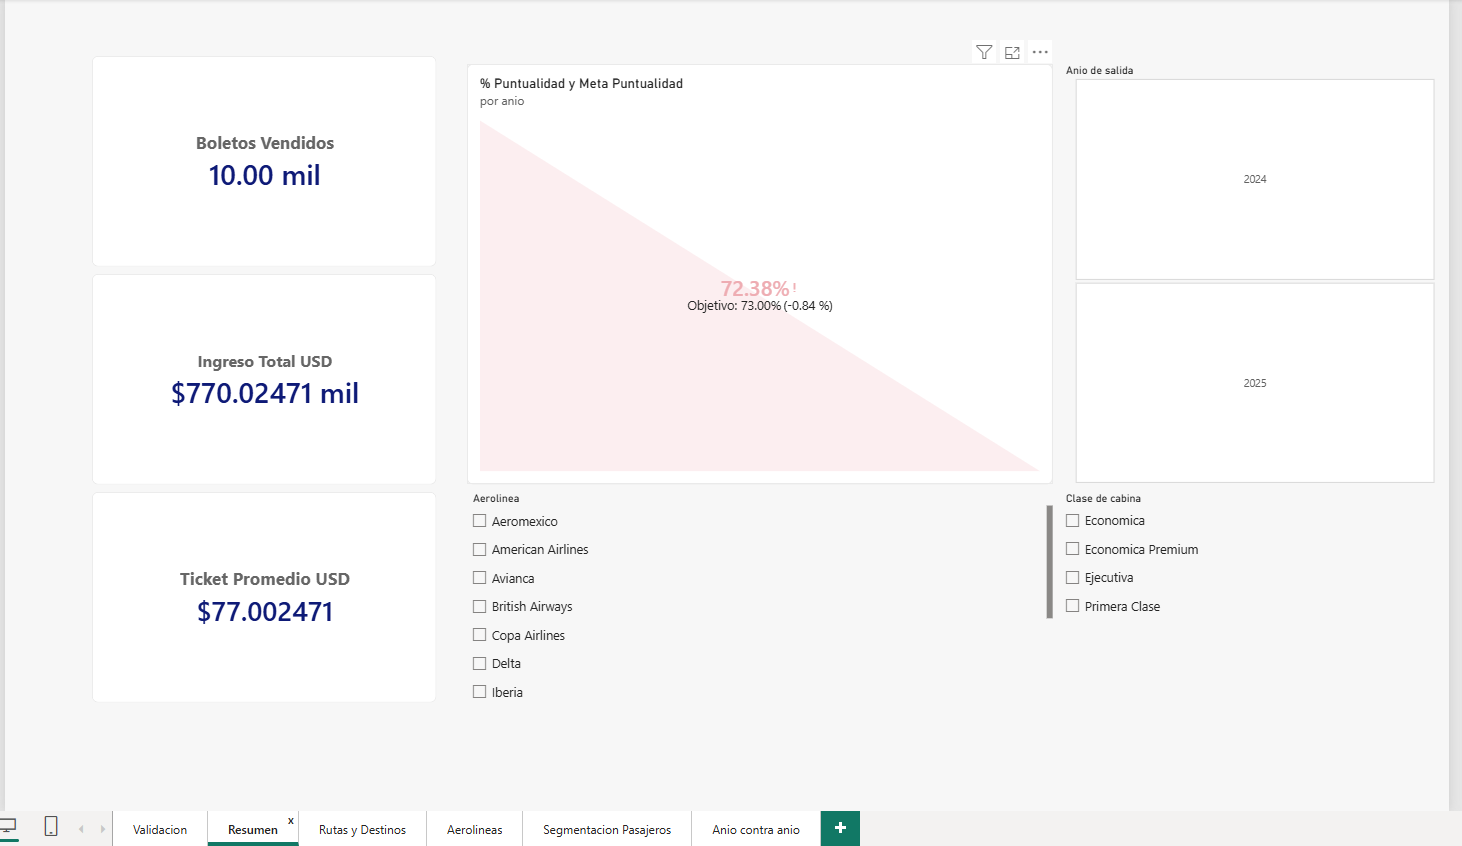

What the dashboard file says about the page in this screenshot:
{"tool":"powerbi","page":{"name":"Resumen","canvas":[1920,1080],"ordinal":1},"visuals":[{"type":"cardVisual","fields":{"Data":["Hecho_Boleto.Boletos Vendidos"]},"box":[115.7,75.7,458.6,280],"z":0},{"type":"cardVisual","fields":{"Data":["Hecho_Boleto.Ingreso Total USD"]},"box":[115.7,365.7,458.6,280],"z":1000},{"type":"cardVisual","fields":{"Data":["Hecho_Boleto.Ticket Promedio USD"]},"box":[115.7,655.7,458.6,280],"z":2000},{"type":"kpi","fields":{"Goal":["Hecho_Boleto.Meta Puntualidad"],"Indicator":["Hecho_Boleto.% Puntualidad"],"TrendLine":["Dim_Fecha_Salida.Jerarquia Fecha.anio"]},"box":[614.3,86.4,779.4,558.7],"z":3001},{"type":"slicer","fields":{"Values":["Dim_Fecha_Salida.anio"]},"box":[1403,86,517,559],"z":3002},{"type":"slicer","fields":{"Values":["Dim_Aerolinea.nombre"]},"box":[614,656,779,280],"z":3003},{"type":"slicer","fields":{"Values":["Dim_ClaseCabina.descripcion"]},"box":[1403,656,517,280],"z":3004}]}

Visuals, with their boxes on the page's 1920x1080 design canvas (x1, y1, x2, y2). These are canvas units, not pixel positions in the 1462x846 screenshot, which may show the page scaled, cropped or inside an application window:
cardVisual - Hecho_Boleto.Boletos Vendidos: bbox=[116, 76, 574, 356]
cardVisual - Hecho_Boleto.Ingreso Total USD: bbox=[116, 366, 574, 646]
cardVisual - Hecho_Boleto.Ticket Promedio USD: bbox=[116, 656, 574, 936]
kpi - Hecho_Boleto.Meta Puntualidad x Hecho_Boleto.% Puntualidad: bbox=[614, 86, 1394, 645]
slicer - Dim_Fecha_Salida.anio: bbox=[1403, 86, 1920, 645]
slicer - Dim_Aerolinea.nombre: bbox=[614, 656, 1393, 936]
slicer - Dim_ClaseCabina.descripcion: bbox=[1403, 656, 1920, 936]
